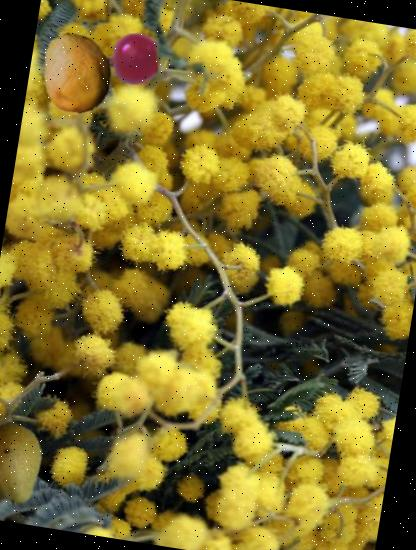Papaya: (30, 26, 123, 119)
Pear: (0, 416, 60, 513)
Redcurrant: (103, 30, 162, 89)
